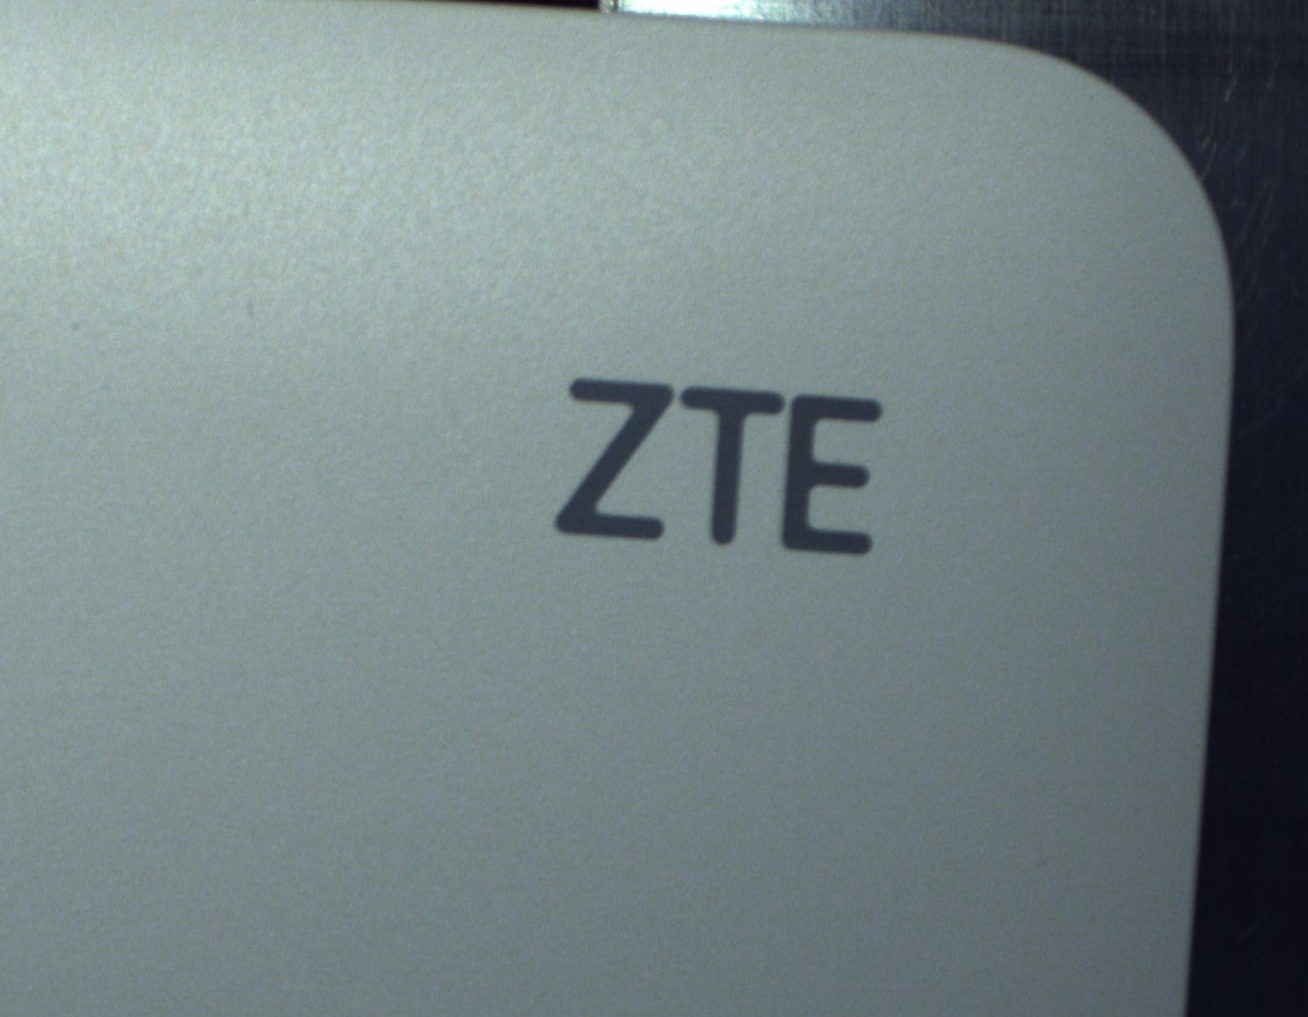AN_ZTE: (516, 347, 912, 574)
